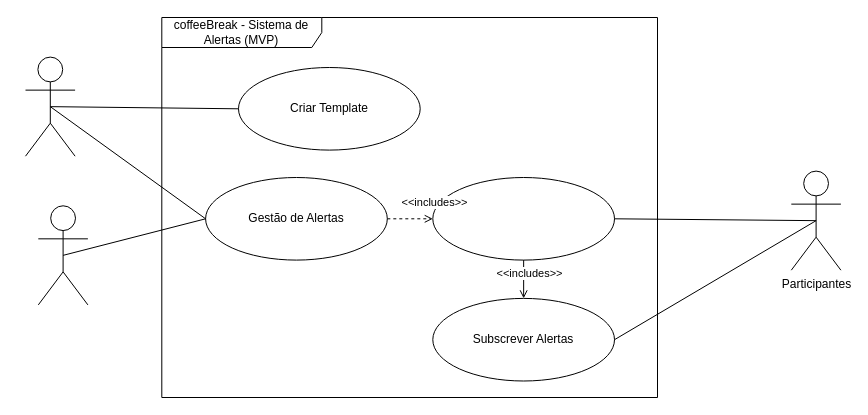
Image size: 868x415. Some labels were removed from this diagram. Each missing label, with the centre of its shape:
Organizador: (49,106)
Staff: (62,255)
Ver Alertas: (523,218)
